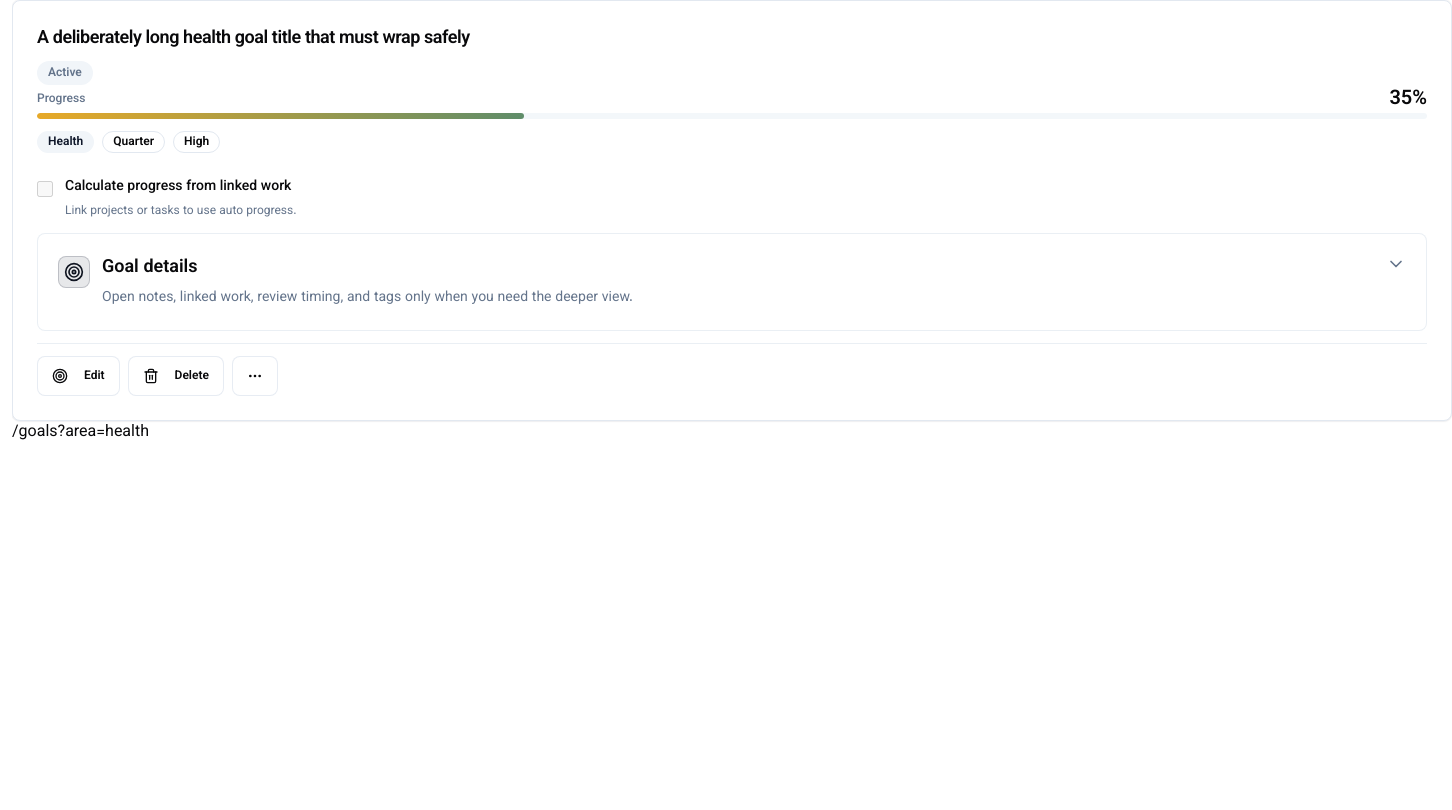
Scenario: Goals and Life Areas cards › renders a goal link to its focused Life Area with mobile-safe actions
The width and height of the screenshot is (1452, 810).
Check: the element to "/life-areas?focusId=health" is not shown
Click the button named "Quick actions".
click(255, 376)  # box left=232, top=356, right=278, bottom=396
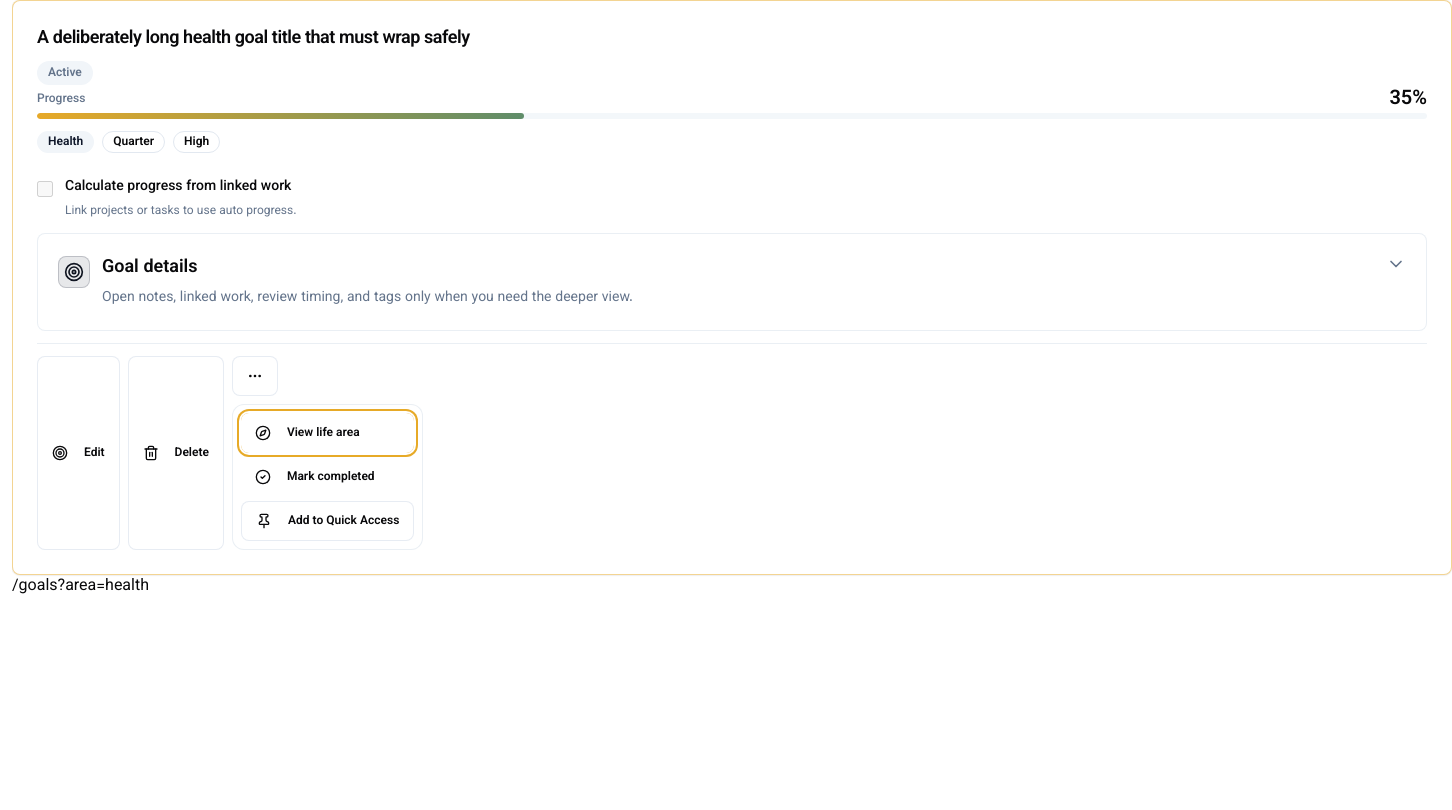
Check: the text "Health" is shown, box left=37, top=131, right=94, bottom=153
Click the link "View life area".
click(328, 433)  # box left=241, top=413, right=414, bottom=453
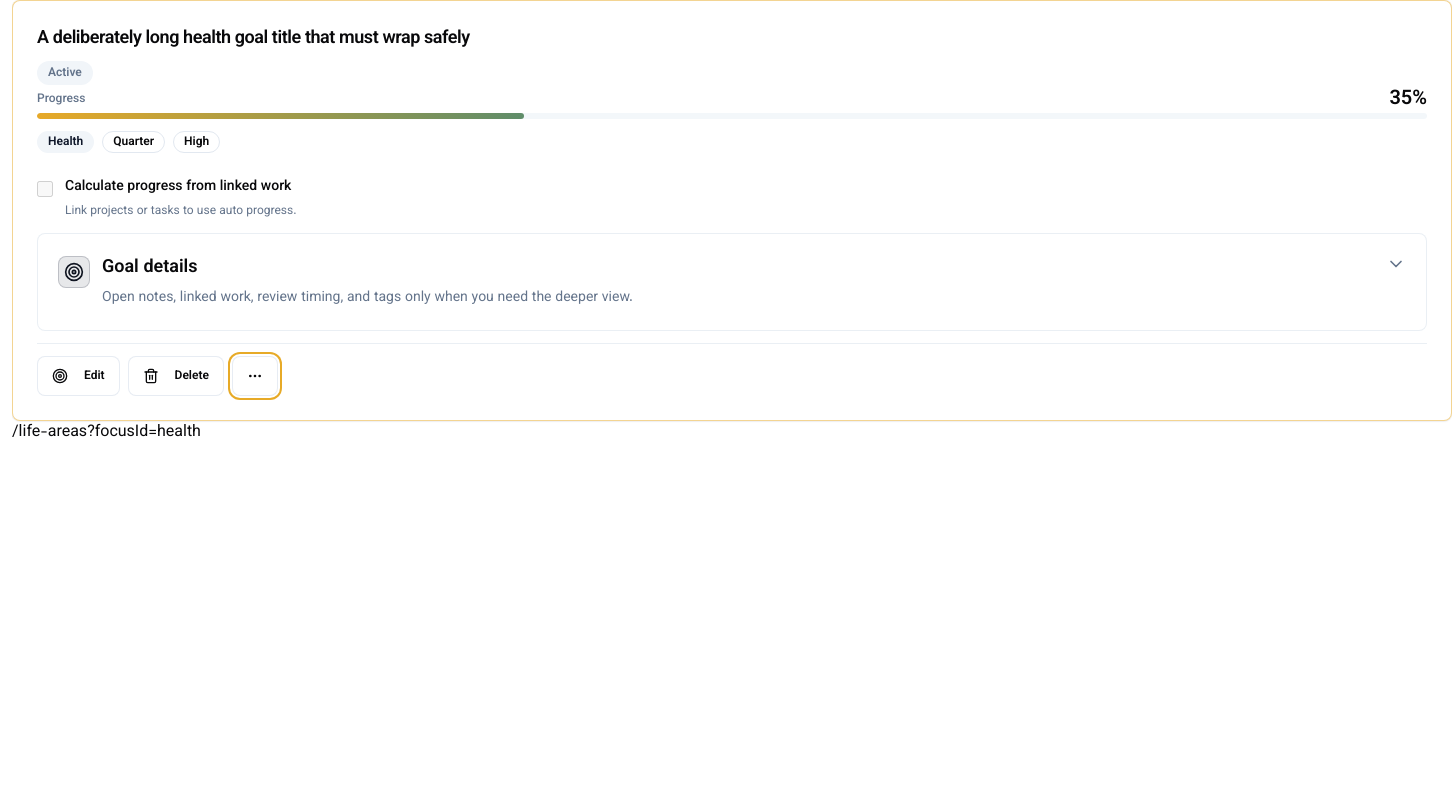
Check: the text "/life-areas?focusId=health" is shown, box left=12, top=420, right=201, bottom=445
